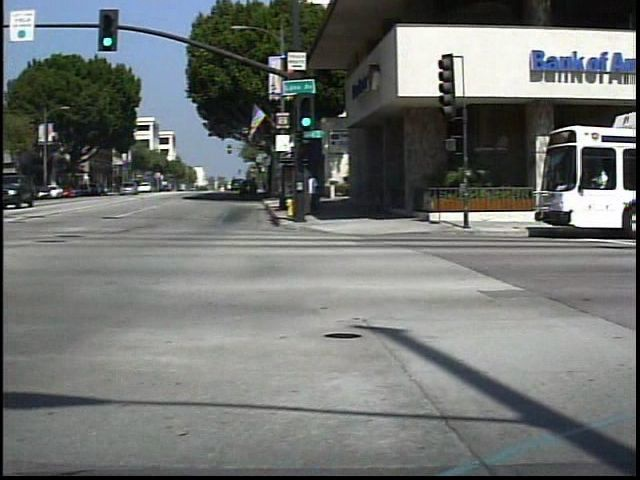person: (313, 168, 330, 218)
